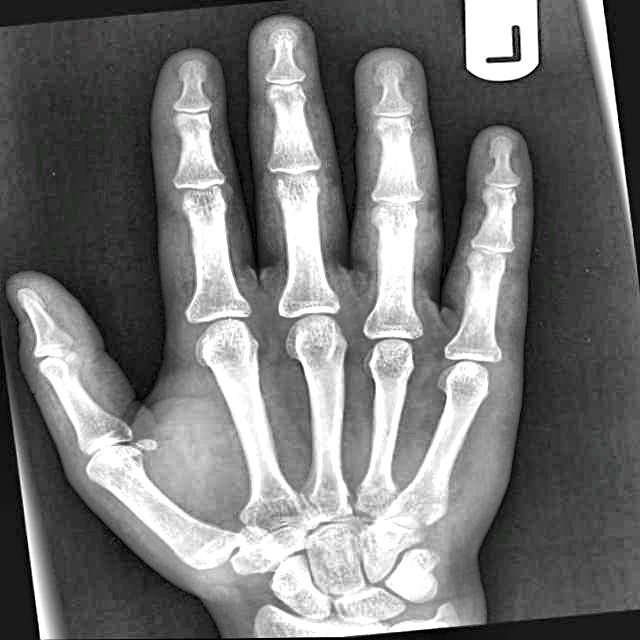Healthy: (88, 118, 528, 611)
